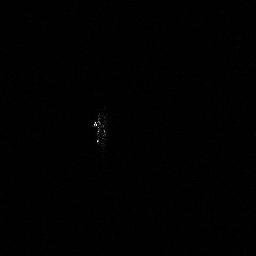ship: (92, 106, 109, 149)
